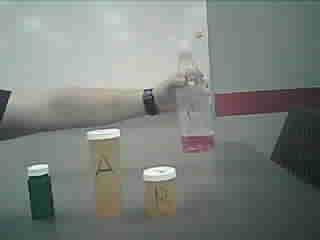Bottle A: (87, 127, 126, 221)
Bottle B: (145, 162, 183, 219)
Bottle C: (20, 157, 61, 226)
hazard: (169, 30, 228, 156)
